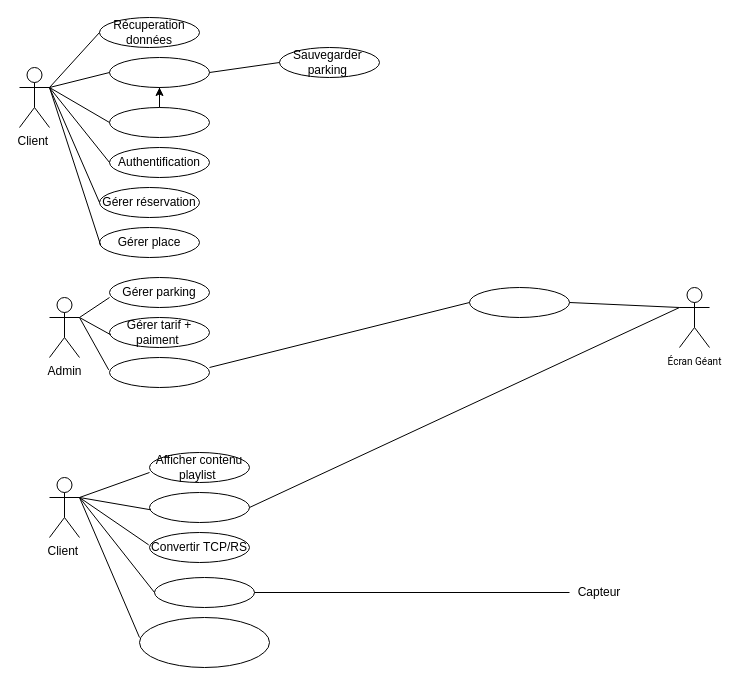
Some shapes in this 738 by 685 pixel diagram are drawn without their labels. The centre of each missing label's shape, as x and y in pixels:
Actualiser parking: point 159,122
Afficher état parking: point 159,72
Consulter historique: point 159,372
Création d'une application graphique: point 204,642
Envoyer image: point 199,507
Récupérer données: point 519,302
Simuler: point 204,592
